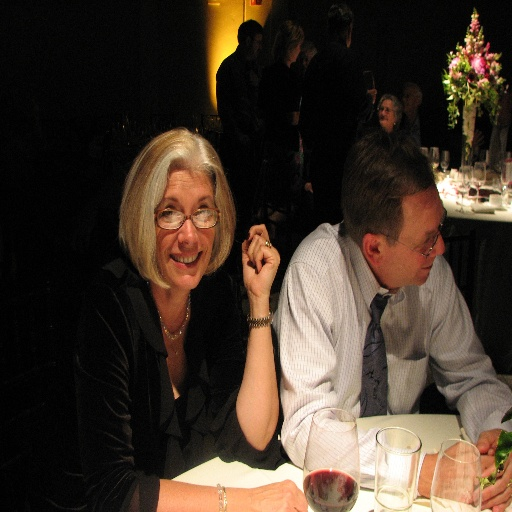hand: (426, 439, 503, 505), (232, 220, 281, 323), (475, 426, 511, 511), (246, 478, 309, 511), (366, 88, 377, 106), (304, 183, 312, 192)
